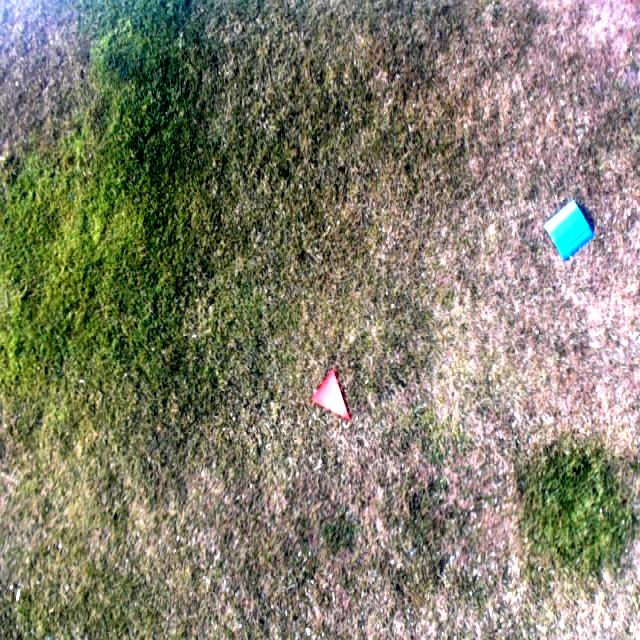blue_hexagon: (543, 197, 597, 266)
red_triangle: (310, 367, 354, 427)
